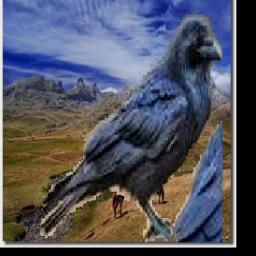Crow: (34, 13, 222, 242)
